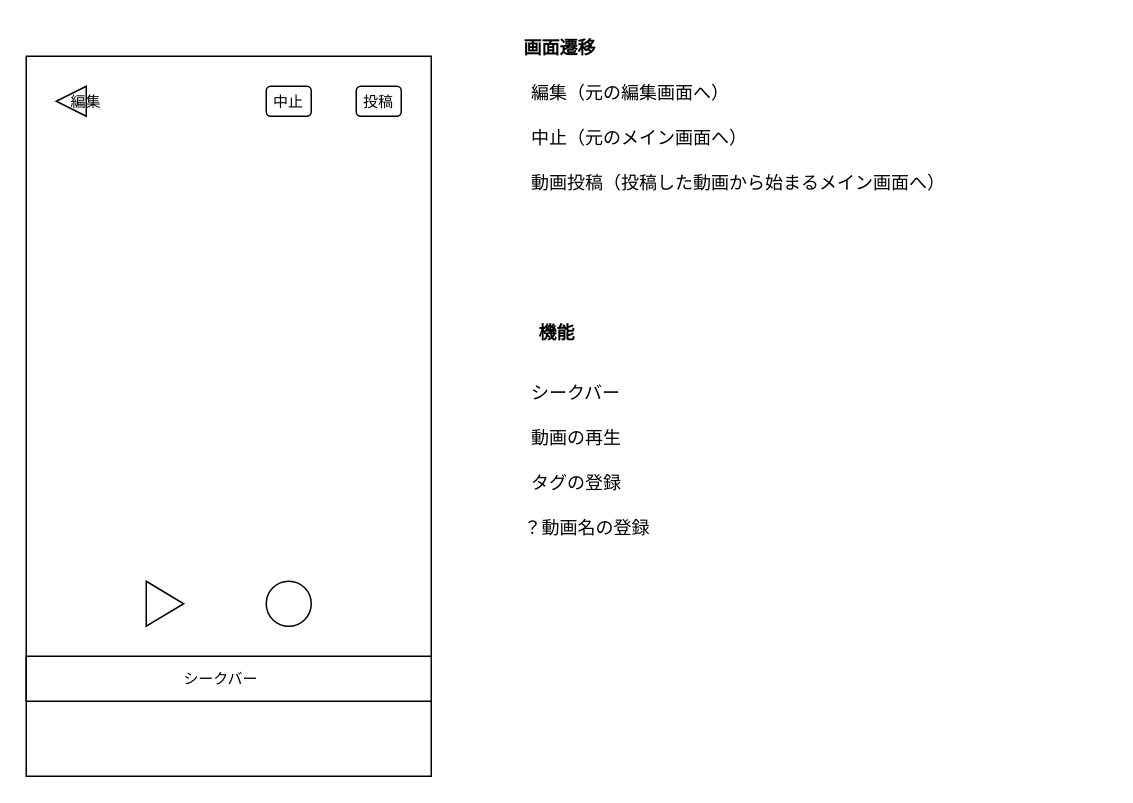
The diagram is 1133 pixels wide and 803 high, and some of its shapes have lost their labels. The shapes that lost their labels are listed below. From the top down, each one's centre as x and y in pixels, then its label:
At (x=164, y=603): "再生".
At (x=288, y=603): "タグ".
